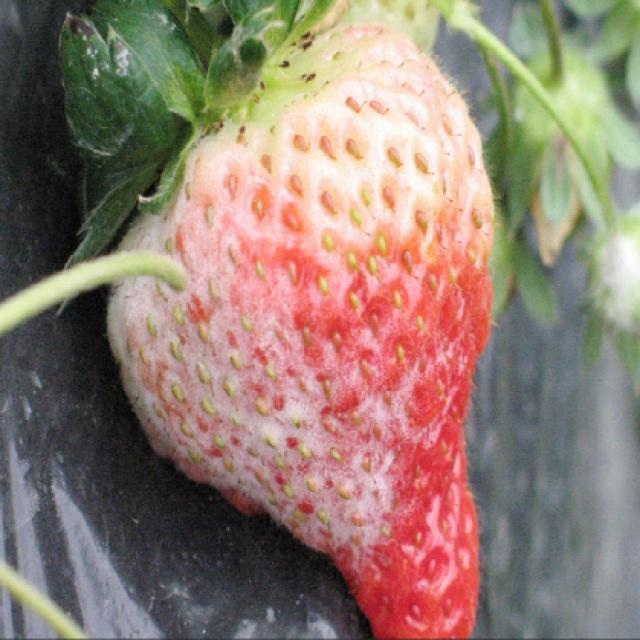Powdery Mildew Fruit: (57, 0, 495, 589)
